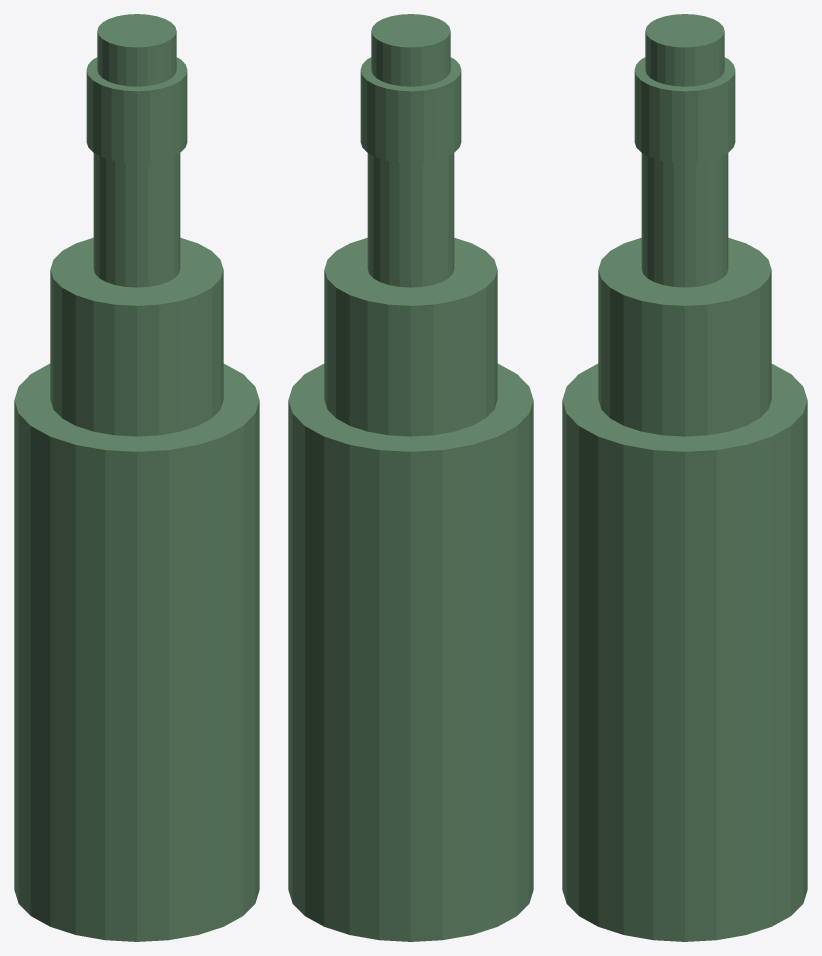
3 views of the same model, side by side, from view 1: azimuth 30°, elevation 25°; view 2: azimuth 150°, elevation 25°; view 3: azimuth 270°, elevation 25° (orthographic).
Visible parts, largest first — view 1: world; view 2: world; view 3: world.
Boxes of the visible parts, x1,y1,x2,y2 form: world: (14, 14, 259, 941); world: (288, 14, 533, 941); world: (562, 14, 807, 941).
Bounding box in the file's own units: 0.068 × 0.263 × 0.068.
